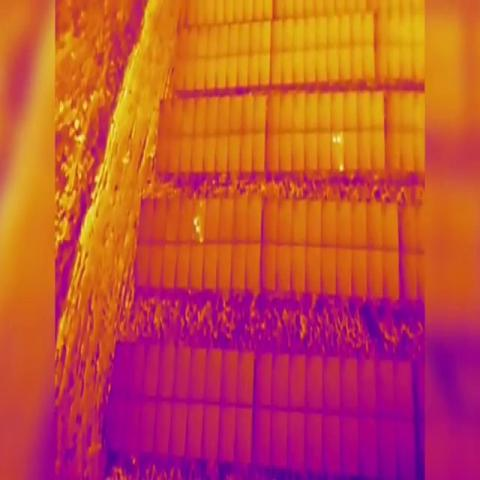fault: (198, 233, 205, 246), (338, 161, 344, 173), (331, 134, 337, 145), (193, 215, 198, 228), (196, 225, 200, 235), (337, 135, 341, 143)
